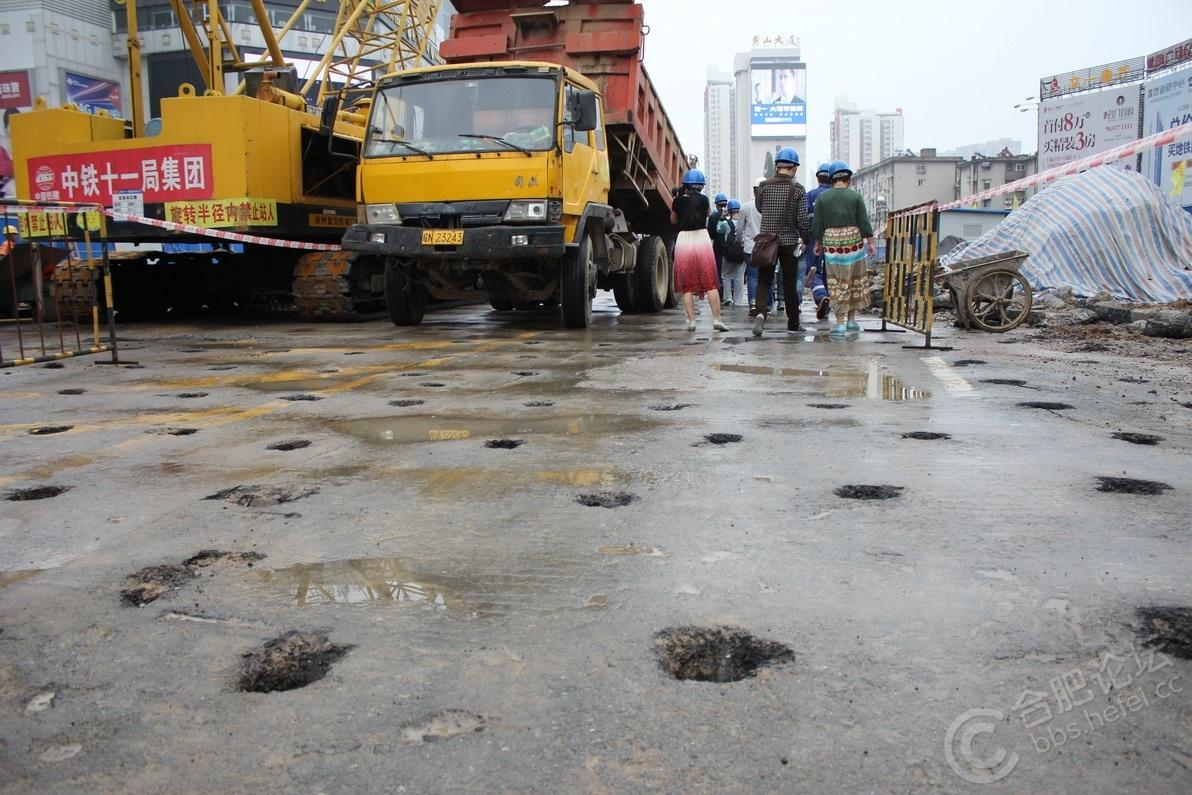Helmet: (776, 148, 801, 174), (683, 168, 706, 192)
NoVest: (757, 177, 807, 242), (819, 188, 863, 247)
